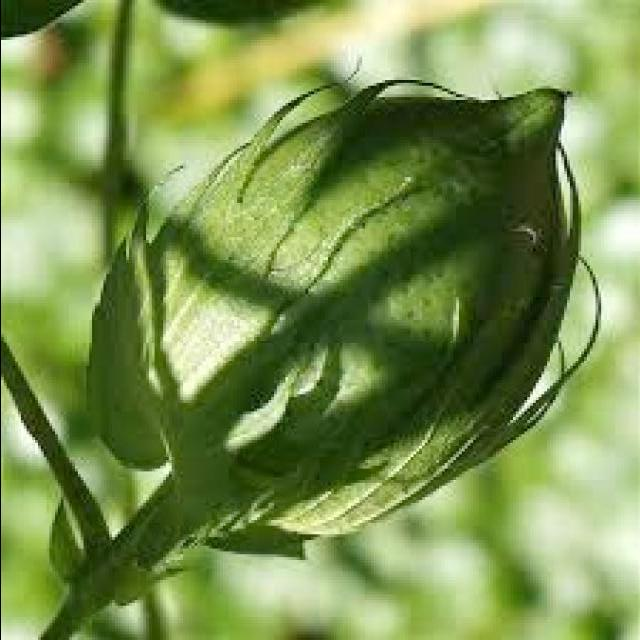Early Boll: (77, 64, 579, 542)
